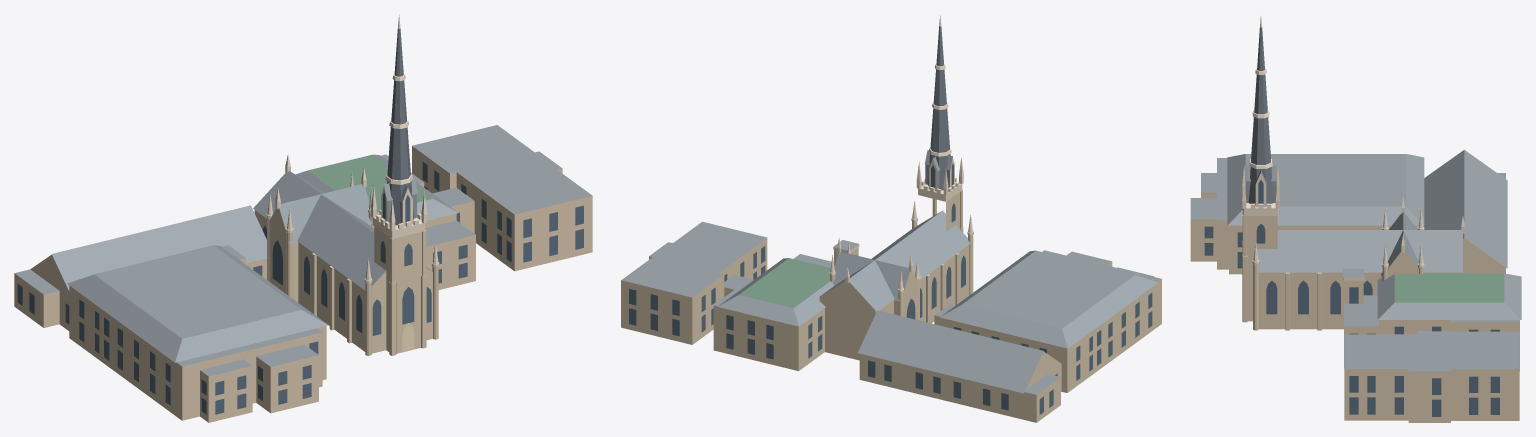
The model's file is first-presbyterian-charlotte.glb.
3 views of the same model, side by side, from view 1: azimuth 30°, elevation 25°; view 2: azimuth 150°, elevation 25°; view 3: azimuth 270°, elevation 25° (orthographic). The views are drawn at different scales.
Visible parts, largest first — view 1: First Presbyterian Church, Charlotte; view 2: First Presbyterian Church, Charlotte; view 3: First Presbyterian Church, Charlotte.
Part boxes in pixels (x1,y1,x2,y2): First Presbyterian Church, Charlotte: (14, 14, 592, 422); First Presbyterian Church, Charlotte: (621, 15, 1161, 422); First Presbyterian Church, Charlotte: (1190, 15, 1521, 422).
Bounding box in the file's own units: 100 × 64 × 63.94.
